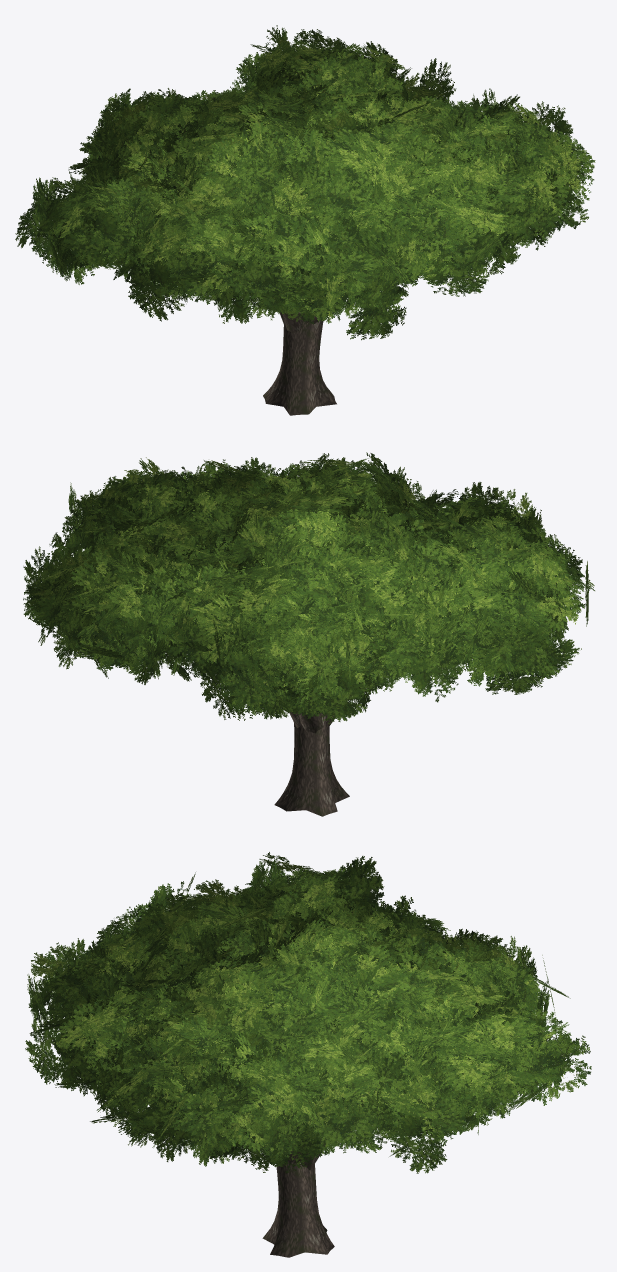
The model's file is LM_TREE_RainTree.glb.
3 renders of one model, top to bottom at view 1: azimuth 30°, elevation 25°; view 2: azimuth 150°, elevation 25°; view 3: azimuth 270°, elevation 25°, orthographic. The views are drawn at different scales.
Parts seen in each view (by area): view 1: LM_TREE_RainTree_A, LM_TREE_RainTree_B; view 2: LM_TREE_RainTree_A, LM_TREE_RainTree_B; view 3: LM_TREE_RainTree_A, LM_TREE_RainTree_B.
Part boxes in pixels (<box>): LM_TREE_RainTree_A: <box>37,39,595,415</box>; LM_TREE_RainTree_B: <box>15,25,588,414</box>; LM_TREE_RainTree_A: <box>23,452,585,816</box>; LM_TREE_RainTree_B: <box>23,457,594,813</box>; LM_TREE_RainTree_A: <box>25,872,572,1255</box>; LM_TREE_RainTree_B: <box>27,852,591,1257</box>.
Size of the model in its own units: 13.73 by 7.06 by 12.49.
2 materials, 2 textured.
